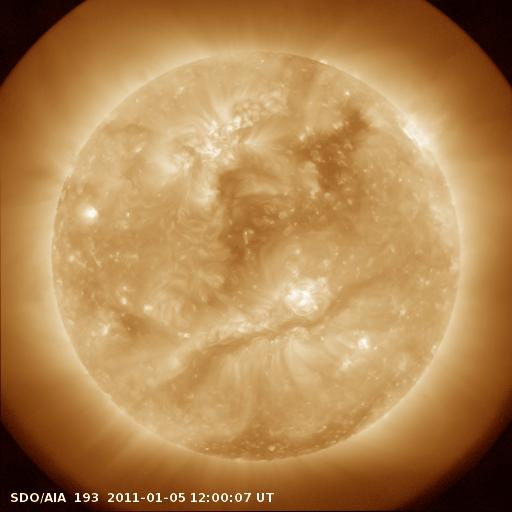coronal_hole: (187, 403, 375, 469), (207, 167, 297, 260), (295, 103, 368, 198)
